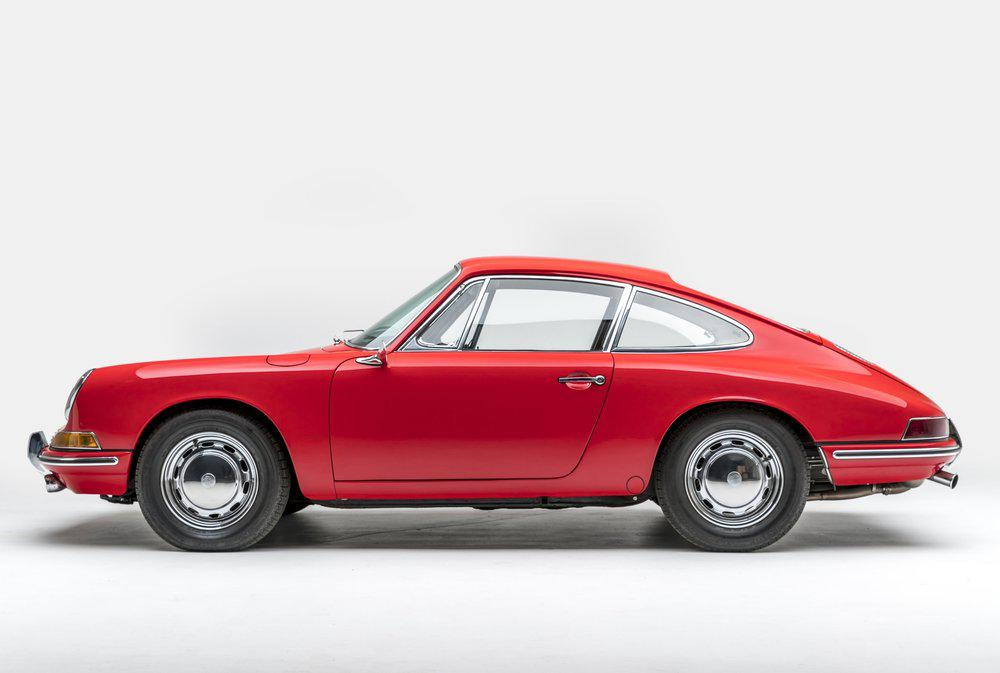car: (12, 217, 970, 601)
